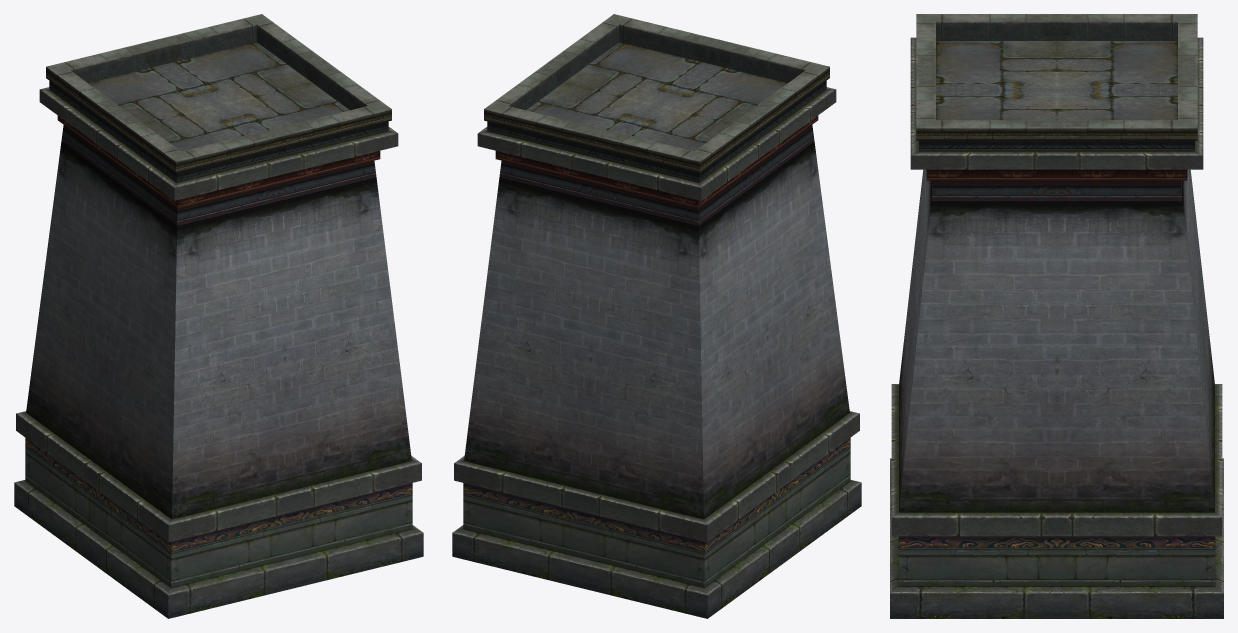
File: HYC_chengqiang_02.FBX
3 views of the same model, side by side, from view 1: azimuth 30°, elevation 25°; view 2: azimuth 150°, elevation 25°; view 3: azimuth 270°, elevation 25° (orthographic). The views are drawn at different scales.
Visible parts, largest first — view 1: Object09; view 2: Object09; view 3: Object09.
Boxes of the visible parts, x1,y1,x2,y2 form: Object09: (14,14,423,618); Object09: (452,14,861,618); Object09: (890,14,1223,618).
Bounding box in the file's own units: 823 × 1365 × 860.
